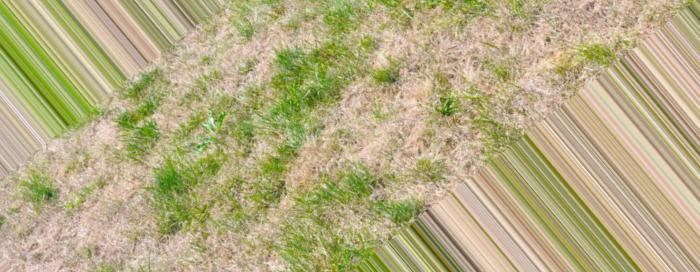patch: (338, 92, 468, 175), (390, 22, 580, 71), (50, 152, 134, 249), (198, 36, 279, 82)
